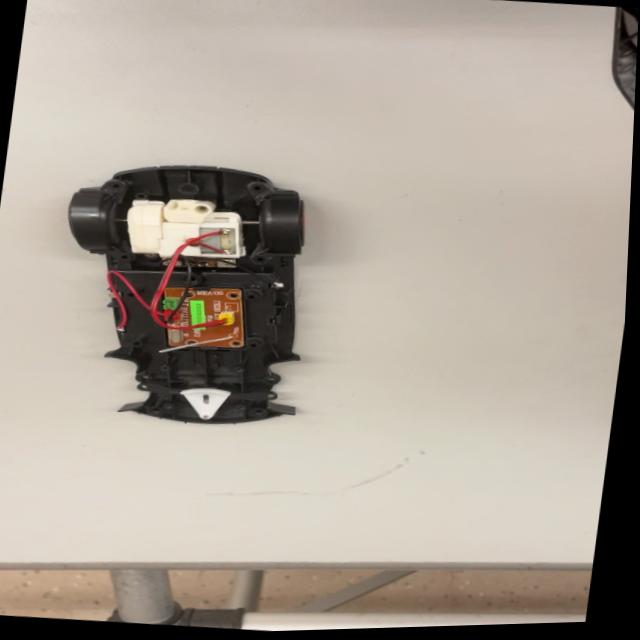Chassis: (38, 145, 330, 450)
